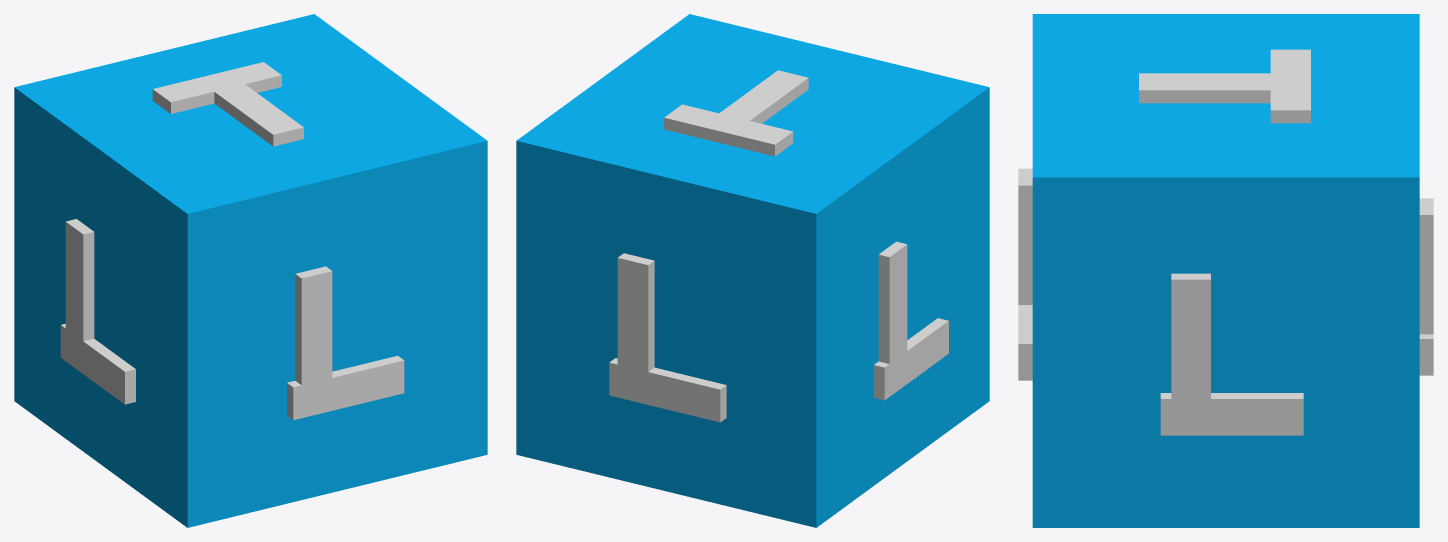
File: TARGET_CUBE.glb
3 views of the same model, side by side, from view 1: azimuth 30°, elevation 25°; view 2: azimuth 150°, elevation 25°; view 3: azimuth 270°, elevation 25° (orthographic). The views are drawn at different scales.
Visible parts, largest first — view 1: T_BASE_HIGH, TARGET_HIGH; view 2: T_BASE_HIGH, TARGET_HIGH; view 3: T_BASE_HIGH, TARGET_HIGH.
Part boxes in pixels (bbox=[...]): T_BASE_HIGH: bbox=[14, 14, 487, 527]; TARGET_HIGH: bbox=[60, 62, 404, 420]; T_BASE_HIGH: bbox=[516, 14, 989, 527]; TARGET_HIGH: bbox=[609, 70, 948, 422]; T_BASE_HIGH: bbox=[1032, 14, 1419, 527]; TARGET_HIGH: bbox=[1018, 49, 1433, 435].
Bounding box in the file's own units: 2.15 × 2.15 × 2.15.
